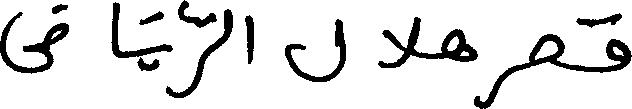X: (0, 0, 68, 78), (284, 14, 344, 86), (173, 0, 204, 102), (379, 12, 417, 72), (607, 8, 631, 76), (531, 29, 562, 71), (442, 24, 470, 66), (484, 65, 507, 108), (163, 9, 171, 100), (245, 10, 252, 68), (112, 0, 118, 62), (224, 4, 232, 47)
